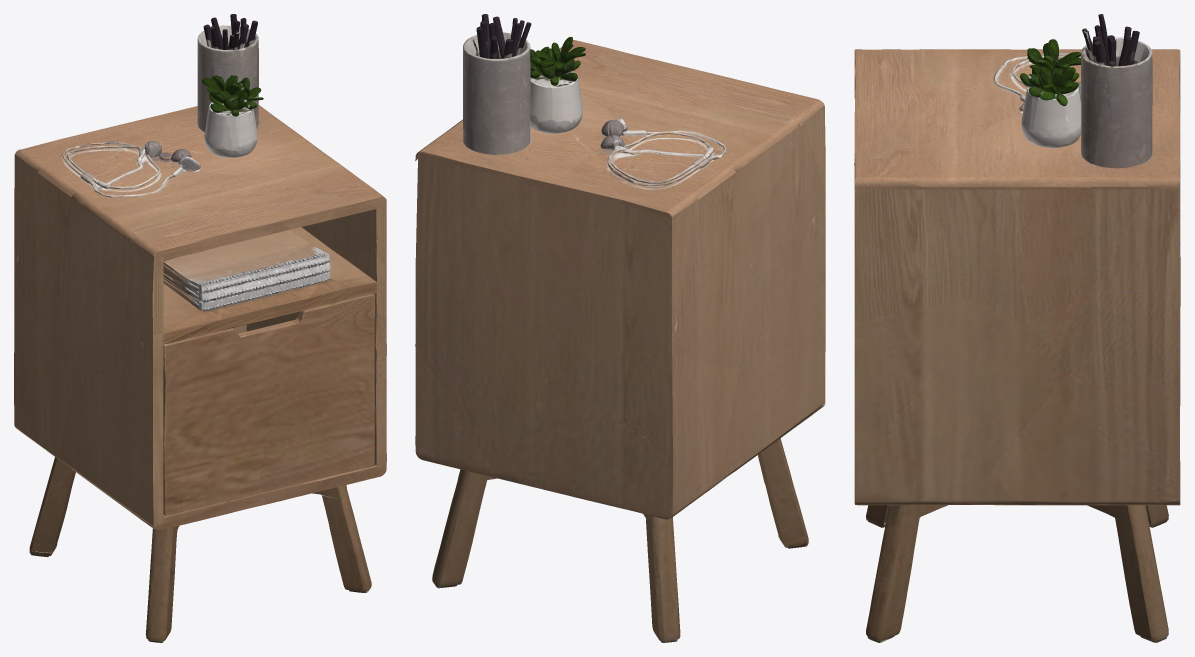
The picture shows the model from 3 angles, left to right: view 1: azimuth 30°, elevation 25°; view 2: azimuth 150°, elevation 25°; view 3: azimuth 270°, elevation 25°; orthographic projection. The views are drawn at different scales.
Bounding box in the file's own units: 0.9202 × 1.9 × 0.9479.
1 material, 1 textured.
